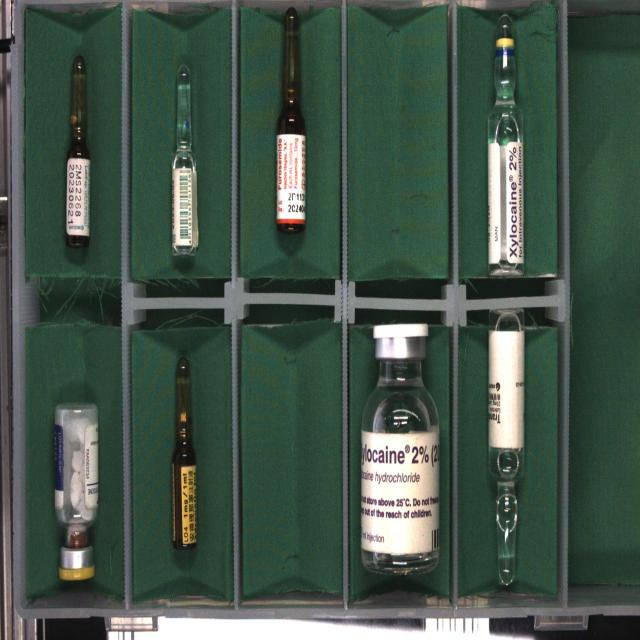Vials: (361, 324, 438, 574), (54, 404, 99, 579)
